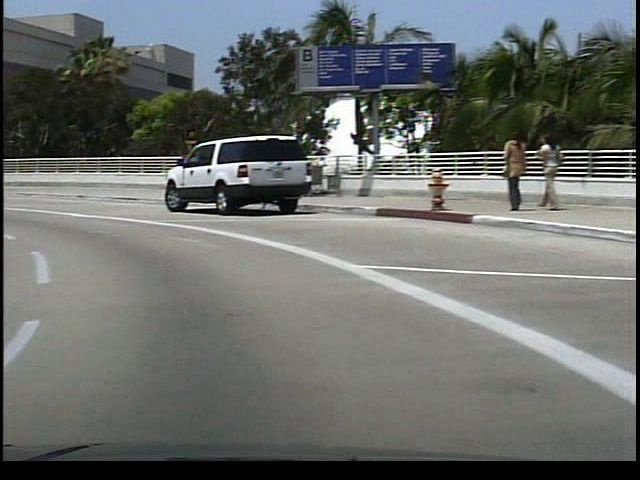person: (528, 130, 557, 213), (493, 127, 520, 216)
